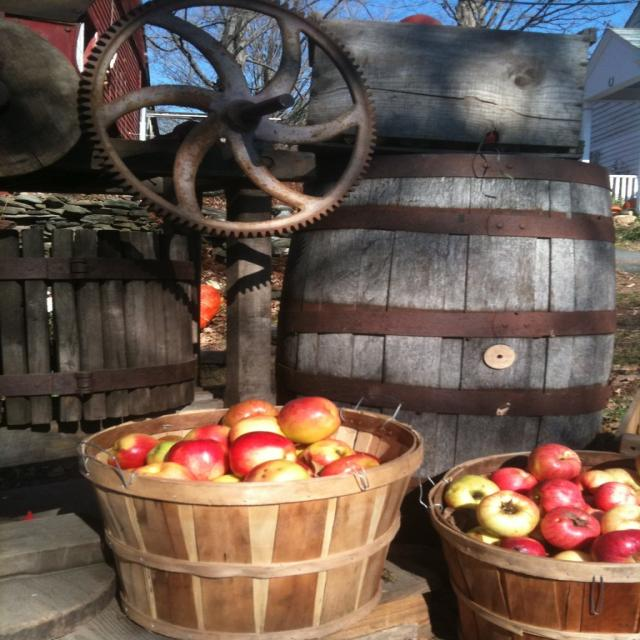Healty Apple: (101, 398, 385, 482), (440, 442, 640, 560), (268, 400, 342, 448)
